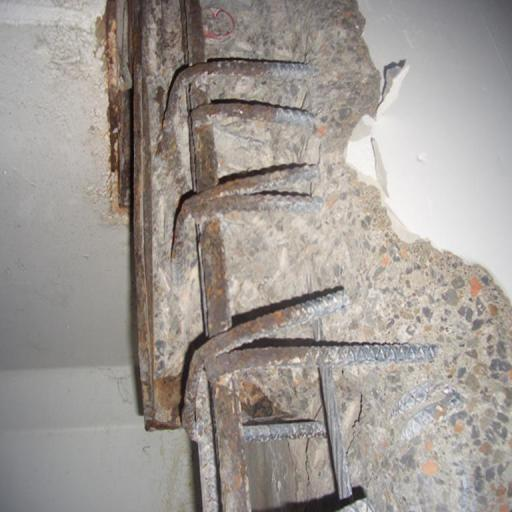spalling: (101, 0, 512, 512)
